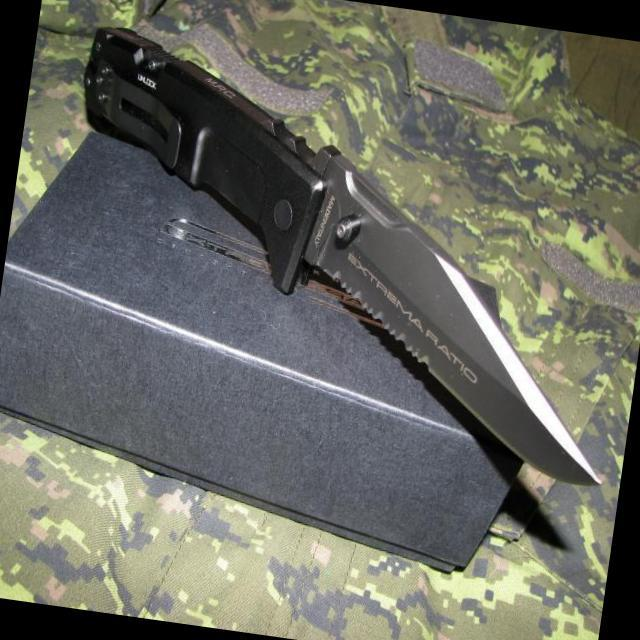Knife: (259, 131, 640, 494)
